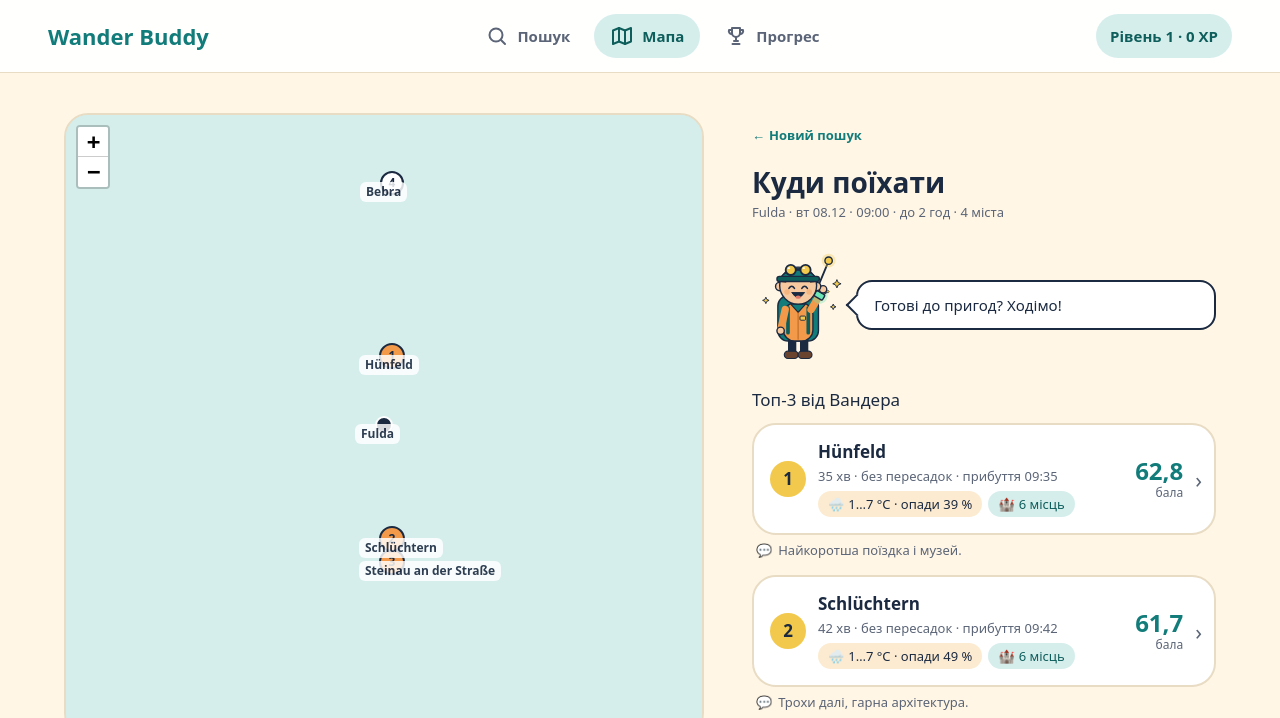
Test: back to the search › a later day outside this weekend is restored as another date
Expected: the heading "Топ-3 від Вандера" is shown, [752,388,900,411]
Click the button "← Новий пошук": (807, 135) [748,113,866,157]
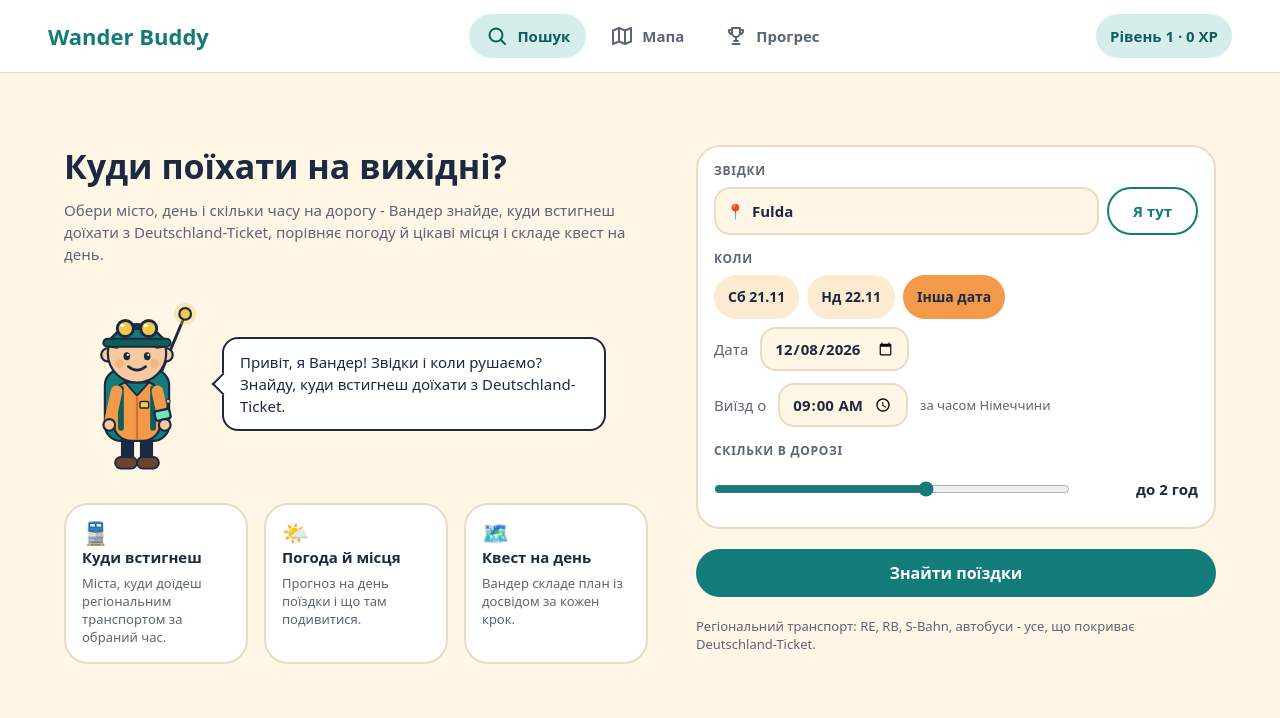
Result: the button "Інша дата" is shown at [903,275,1005,319]
